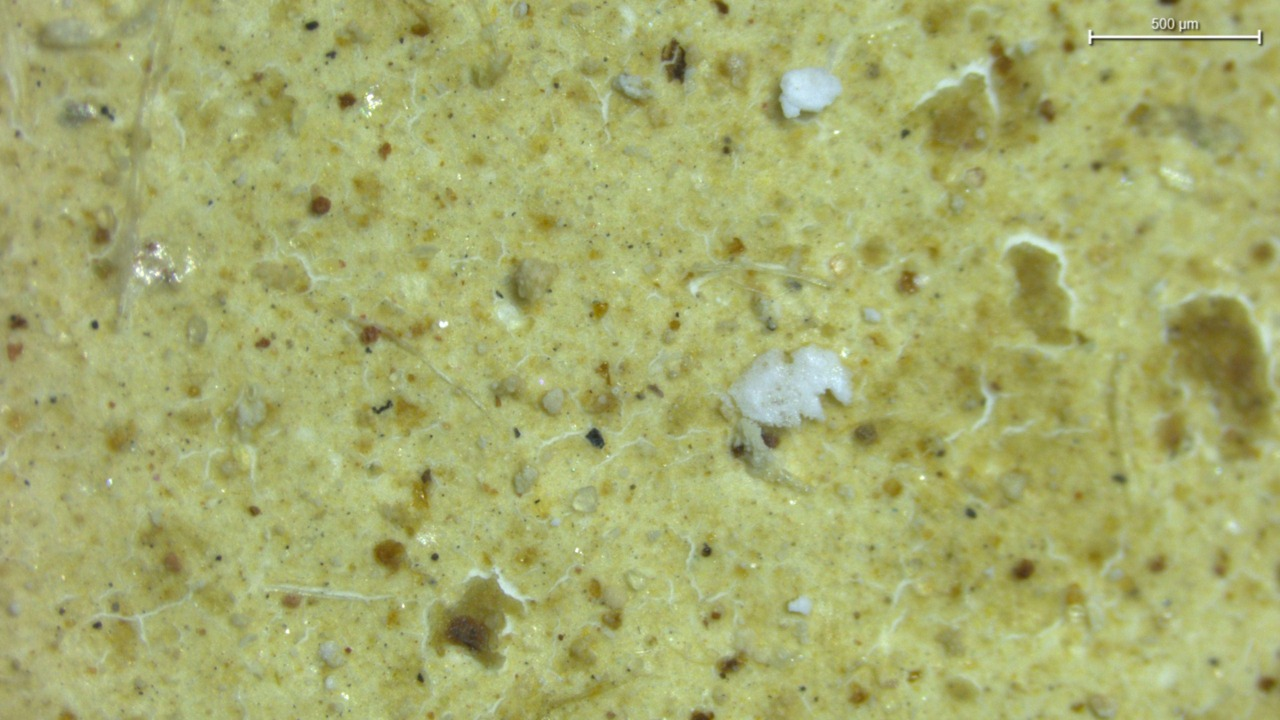microplastic_fragment: (730, 346, 852, 428), (779, 67, 842, 118), (512, 259, 557, 302)
